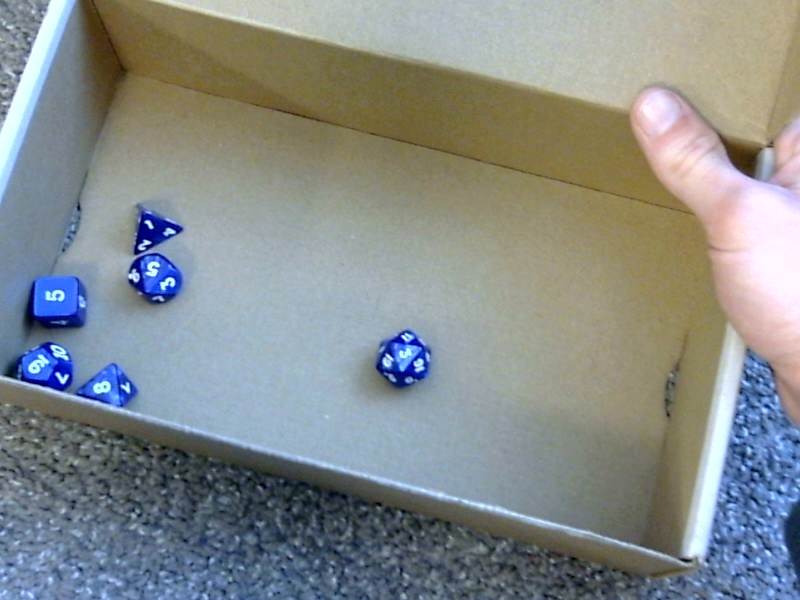d10 5: (124, 253, 194, 305)
d12 9: (16, 340, 76, 392)
d20 3: (370, 324, 445, 388)
d4 1: (128, 203, 188, 255)
d6 5: (30, 271, 93, 331)
d8 8: (74, 364, 142, 407)
